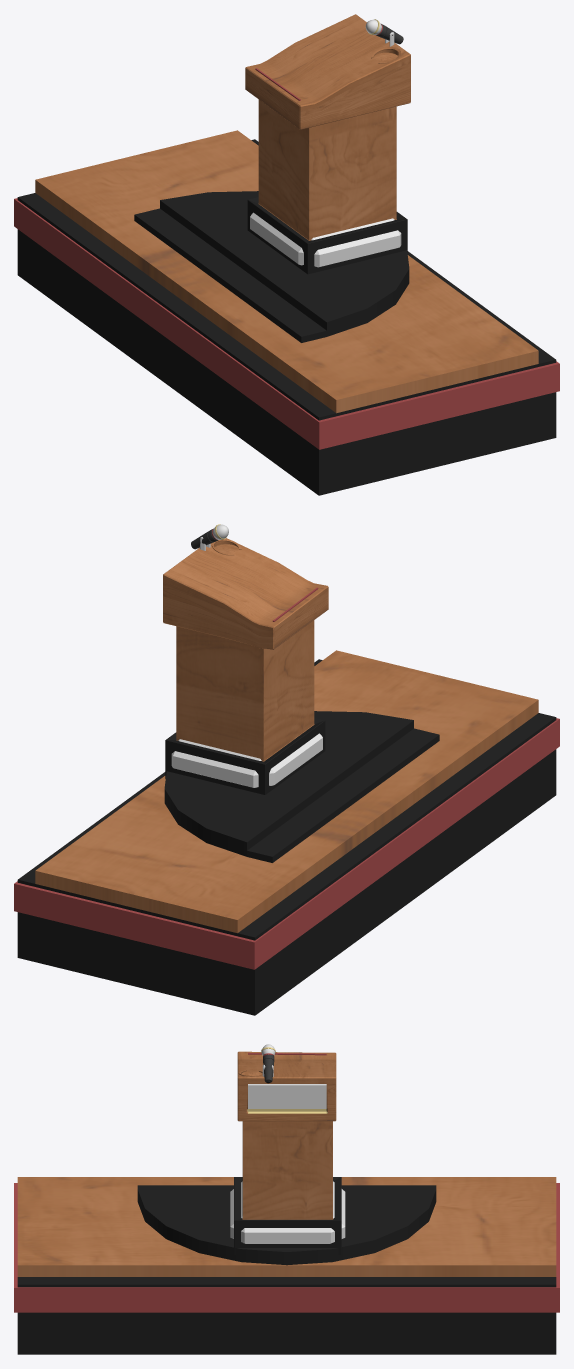
File: podium.fbx
3 views of the same model, one above another, from view 1: azimuth 30°, elevation 25°; view 2: azimuth 150°, elevation 25°; view 3: azimuth 270°, elevation 25° (orthographic). The views are drawn at different scales.
Visible parts, largest first — view 1: pCube13; view 2: pCube13; view 3: pCube13.
Boxes of the visible parts, x1=… form: pCube13: x1=14, y1=14, x2=559, y2=495; pCube13: x1=14, y1=524, x2=559, y2=1015; pCube13: x1=14, y1=1044, x2=559, y2=1354.
Size of the model in its own units: 6.51 by 8.41 by 14.31.
